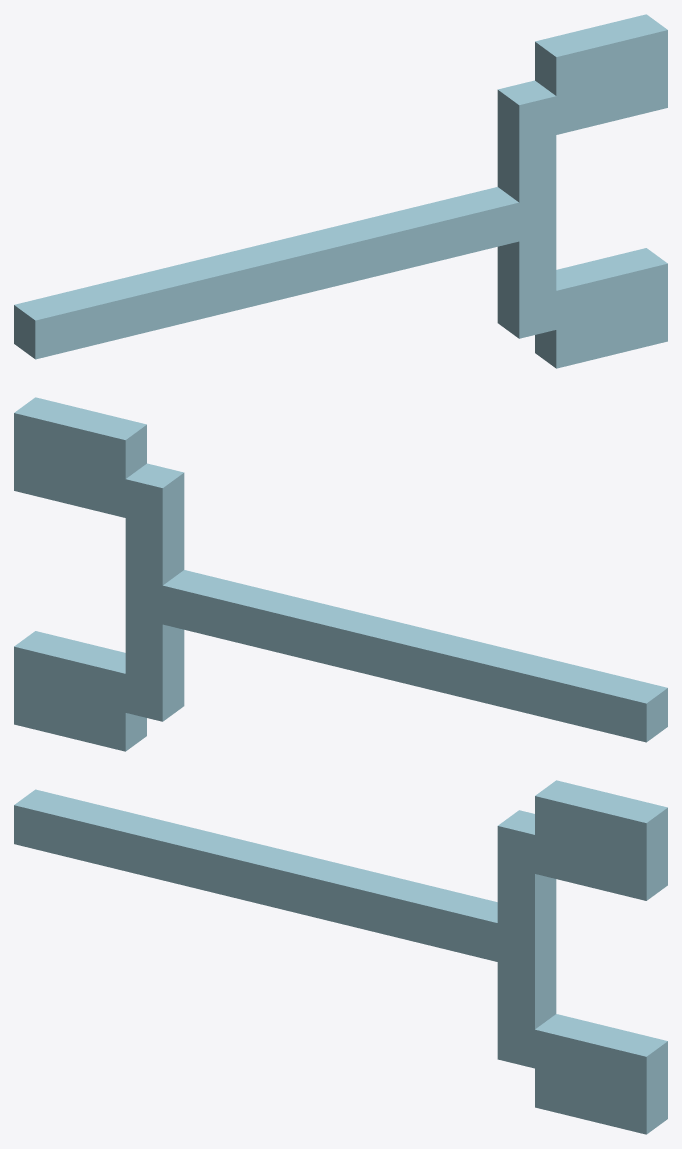
The model's file is coat_hanger.obj.
3 renders of one model, top to bottom at view 1: azimuth 30°, elevation 25°; view 2: azimuth 150°, elevation 25°; view 3: azimuth 330°, elevation 25°, orthographic.
Parts seen in each view (by area): view 1: grp1; view 2: grp1; view 3: grp1.
Part boxes in pixels (x1,y1,x2,y2): grp1: (14, 14, 667, 368); grp1: (14, 397, 667, 751); grp1: (14, 780, 667, 1134).
Size of the model in its own units: 0.85 by 0.4 by 0.05.
